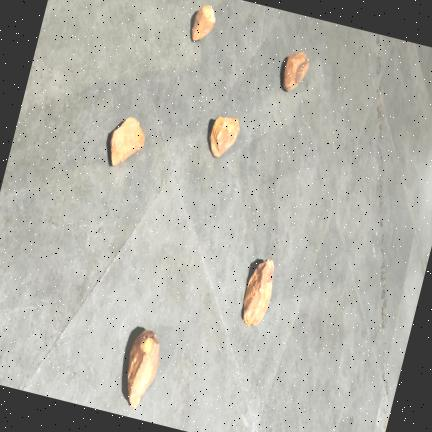Rocks: (128, 331, 159, 407), (243, 260, 274, 326), (111, 118, 144, 165), (210, 116, 239, 157), (283, 52, 309, 90), (191, 6, 215, 41)
